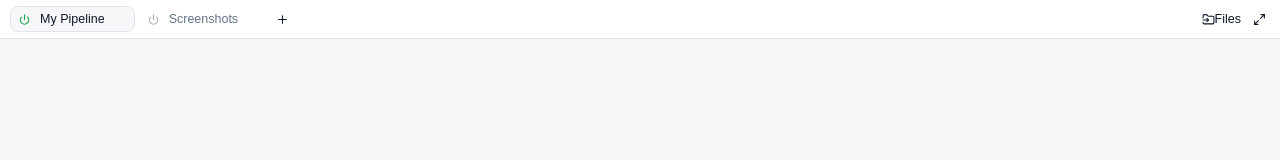
PipelineTabs › creates a new pipeline and loads its empty canvas
The width and height of the screenshot is (1280, 160).
Expected: the tab "My Pipeline" is shown, [36,9,109,29]
Click the button named "new pipeline" at point(283, 19), box [272,10,293,28]
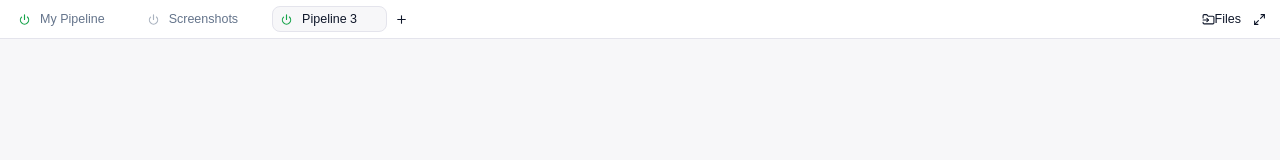
Now the tab "Pipeline 3" is shown, box [298,9,361,29]
